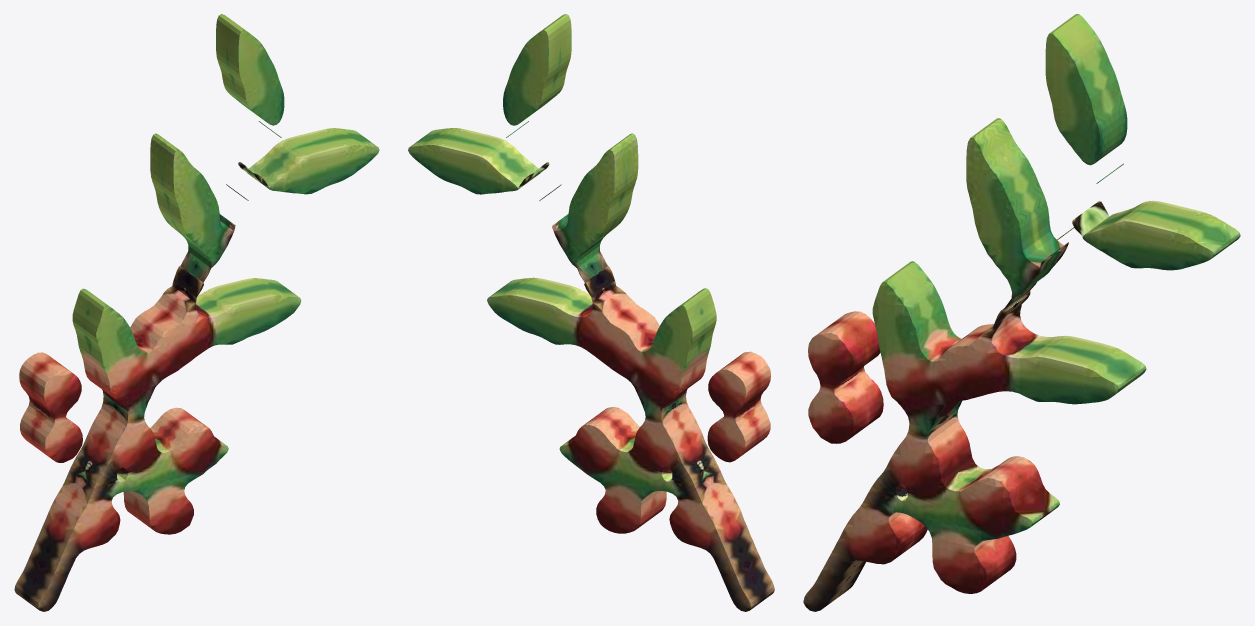
Rendered from sancho.glb.
3 views of the same model, side by side, from view 1: azimuth 30°, elevation 25°; view 2: azimuth 150°, elevation 25°; view 3: azimuth 330°, elevation 25° (orthographic). The views are drawn at different scales.
Parts seen in each view (by area): view 1: geometry_0; view 2: geometry_0; view 3: geometry_0.
Boxes of the visible parts, x1,y1,x2,y2 form: geometry_0: (14, 14, 379, 611); geometry_0: (408, 14, 774, 611); geometry_0: (803, 14, 1240, 611).
Size of the model in its own units: 1.95 by 2.89 by 0.2609.
1 material, 1 textured.
